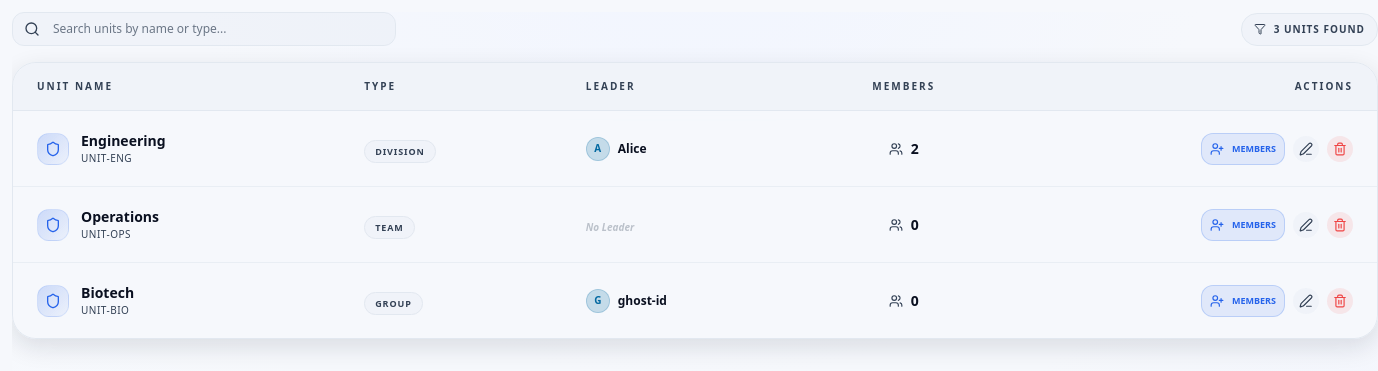
Scenario: OrgUnitTable › filters nodes by label substring (case insensitive)
Type "ENG" into the field with placeholder "Search units by name or type..." at (204, 29), box [12,12,396,46]
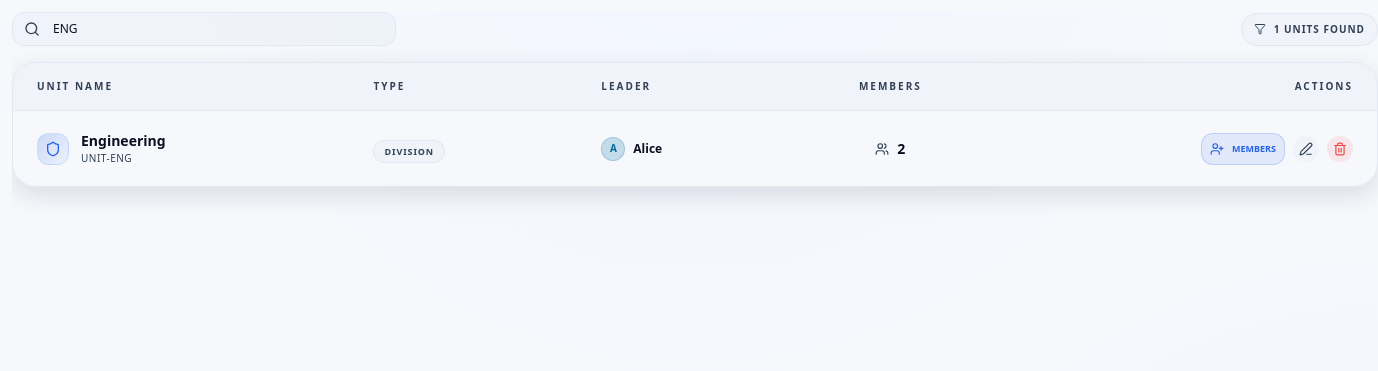
Result: the text "Operations" is gone
Result: the text "Biotech" is gone
Result: the text "1 units found" is shown at [1241,12,1377,46]
